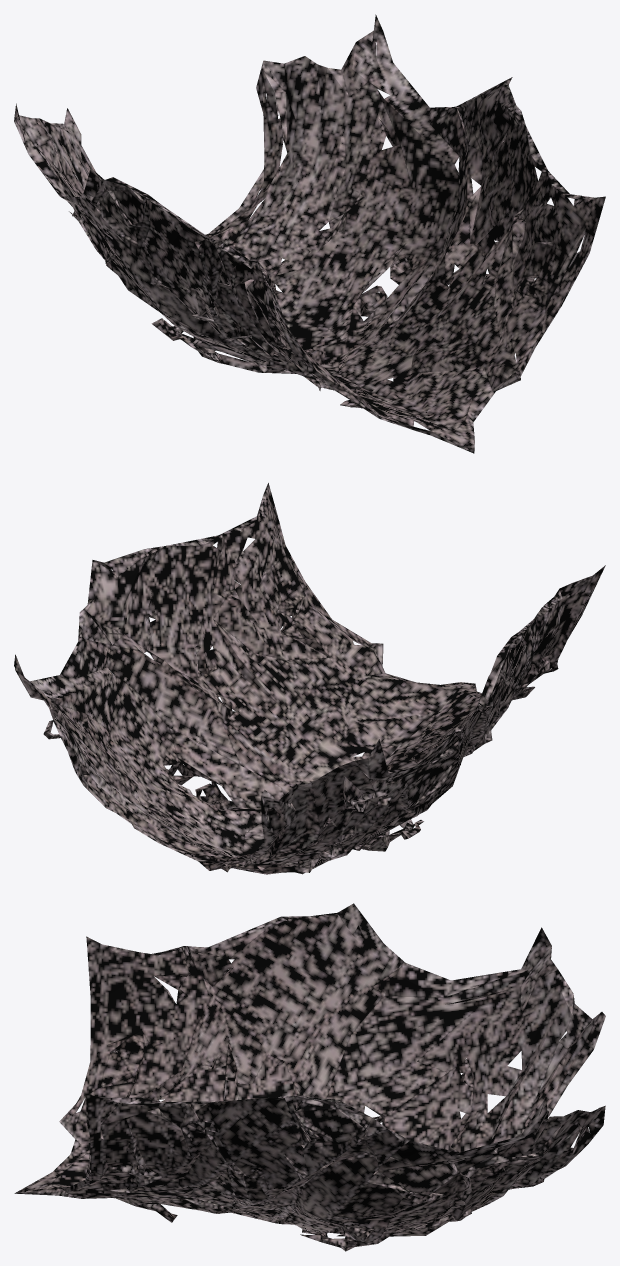
File: vampire_chestplate_LOD2.glb
3 renders of one model, top to bottom at view 1: azimuth 30°, elevation 25°; view 2: azimuth 150°, elevation 25°; view 3: azimuth 270°, elevation 25°, orthographic. The views are drawn at different scales.
Parts seen in each view (by area): view 1: vampire_chestplate_LOD2; view 2: vampire_chestplate_LOD2; view 3: vampire_chestplate_LOD2.
Part boxes in pixels (x1,y1,x2,y2): vampire_chestplate_LOD2: [14, 14, 605, 453]; vampire_chestplate_LOD2: [14, 483, 605, 874]; vampire_chestplate_LOD2: [14, 903, 605, 1251].
Bounding box in the file's own units: 0.5853 × 0.3295 × 0.7581.
1 material, 1 textured.
